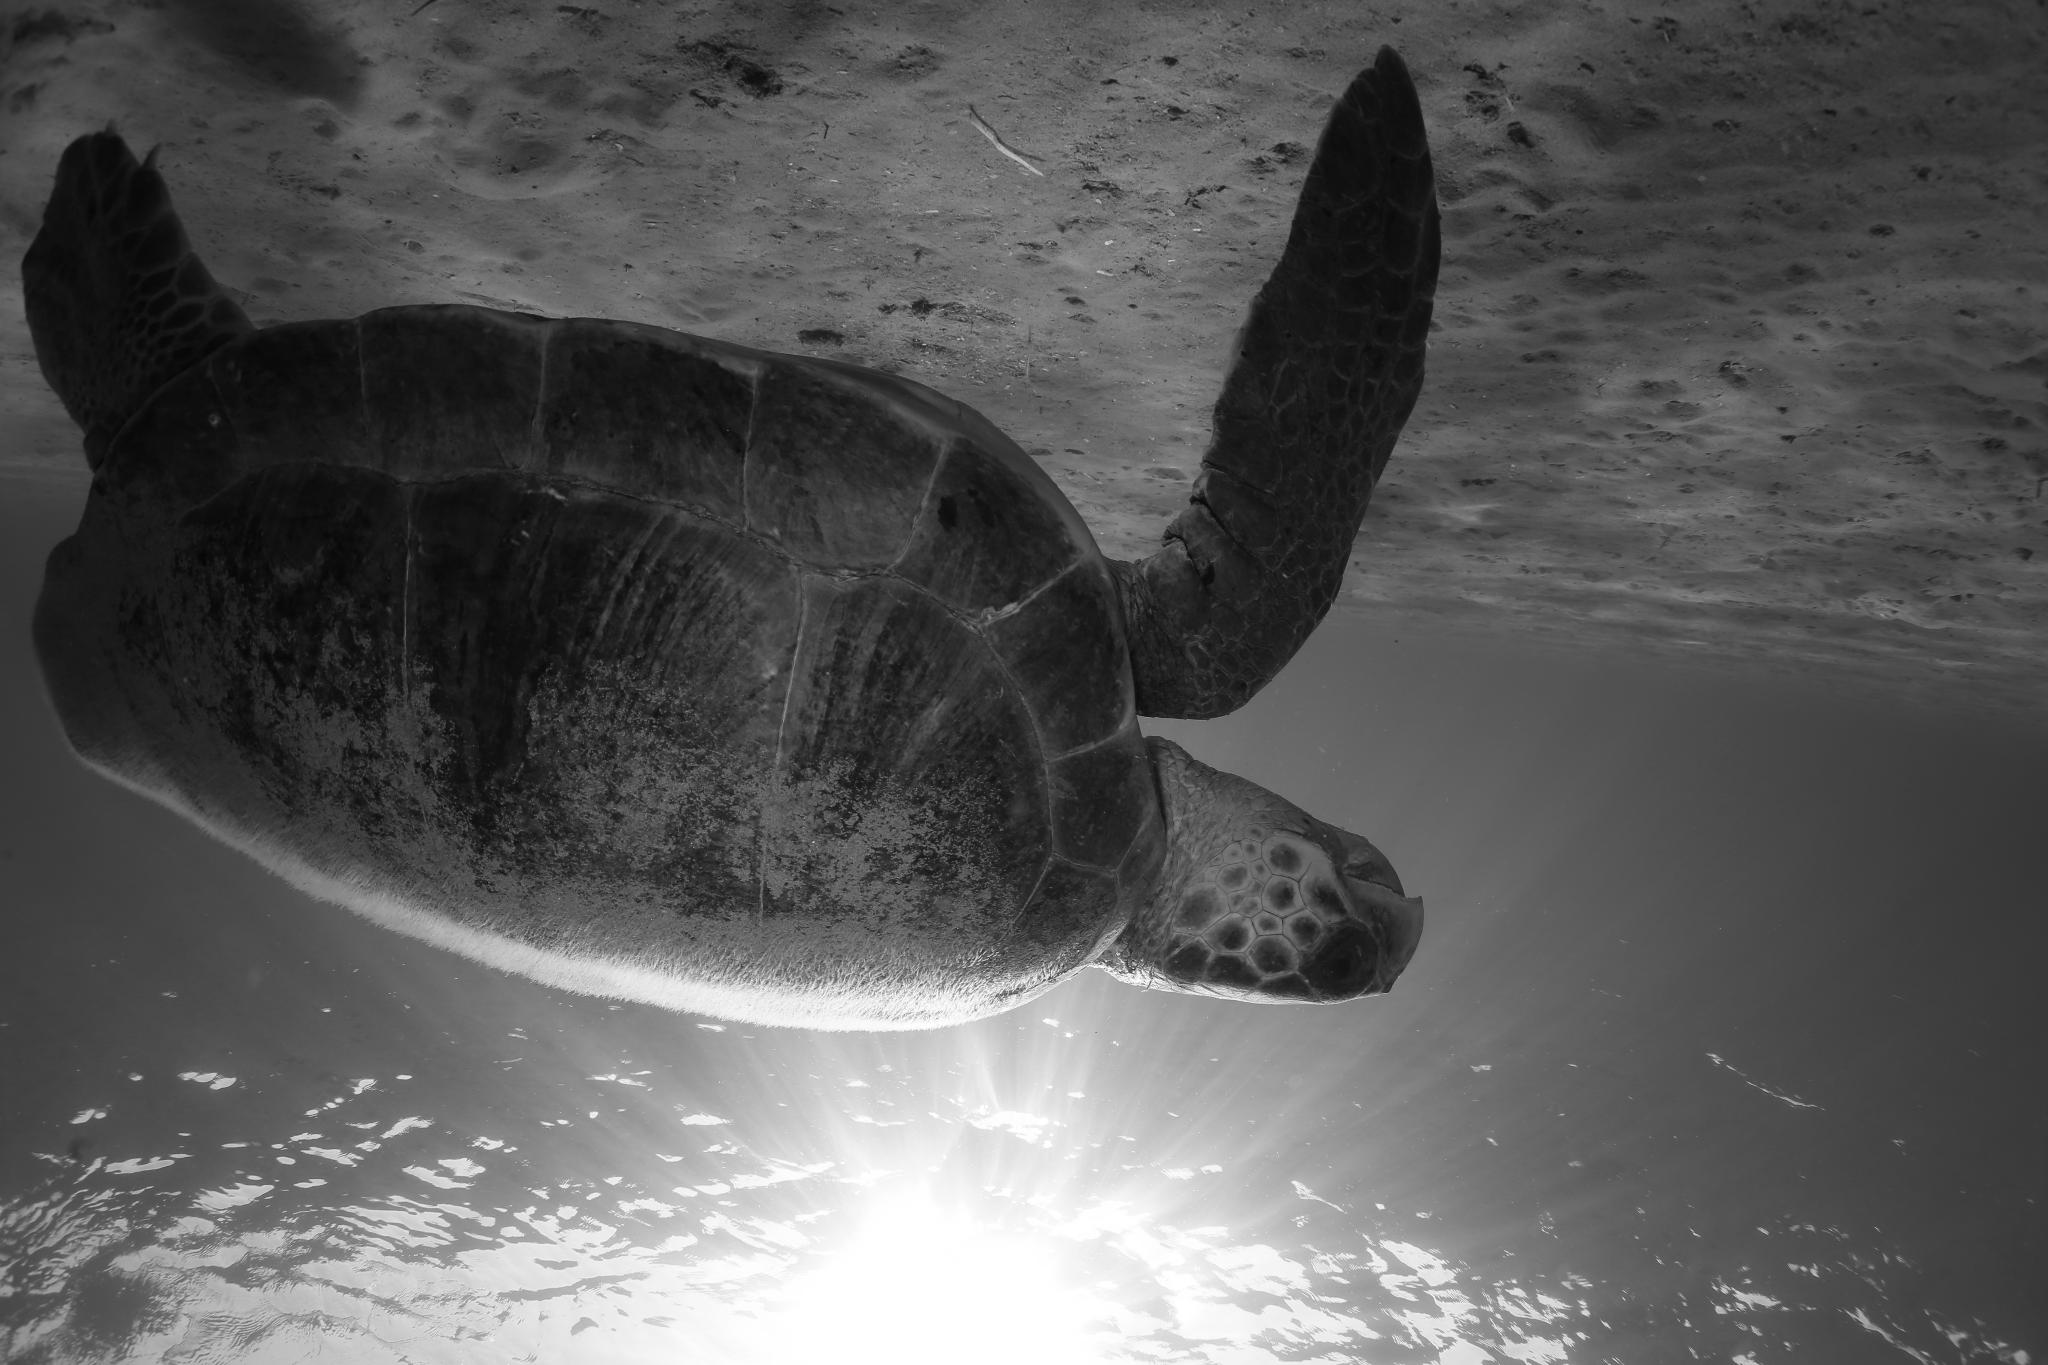Head: (1092, 737, 1423, 1004)
